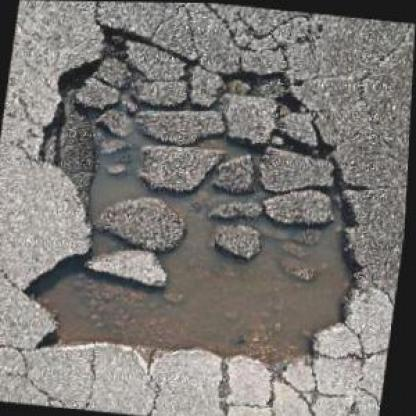pothole: (7, 11, 399, 384)
